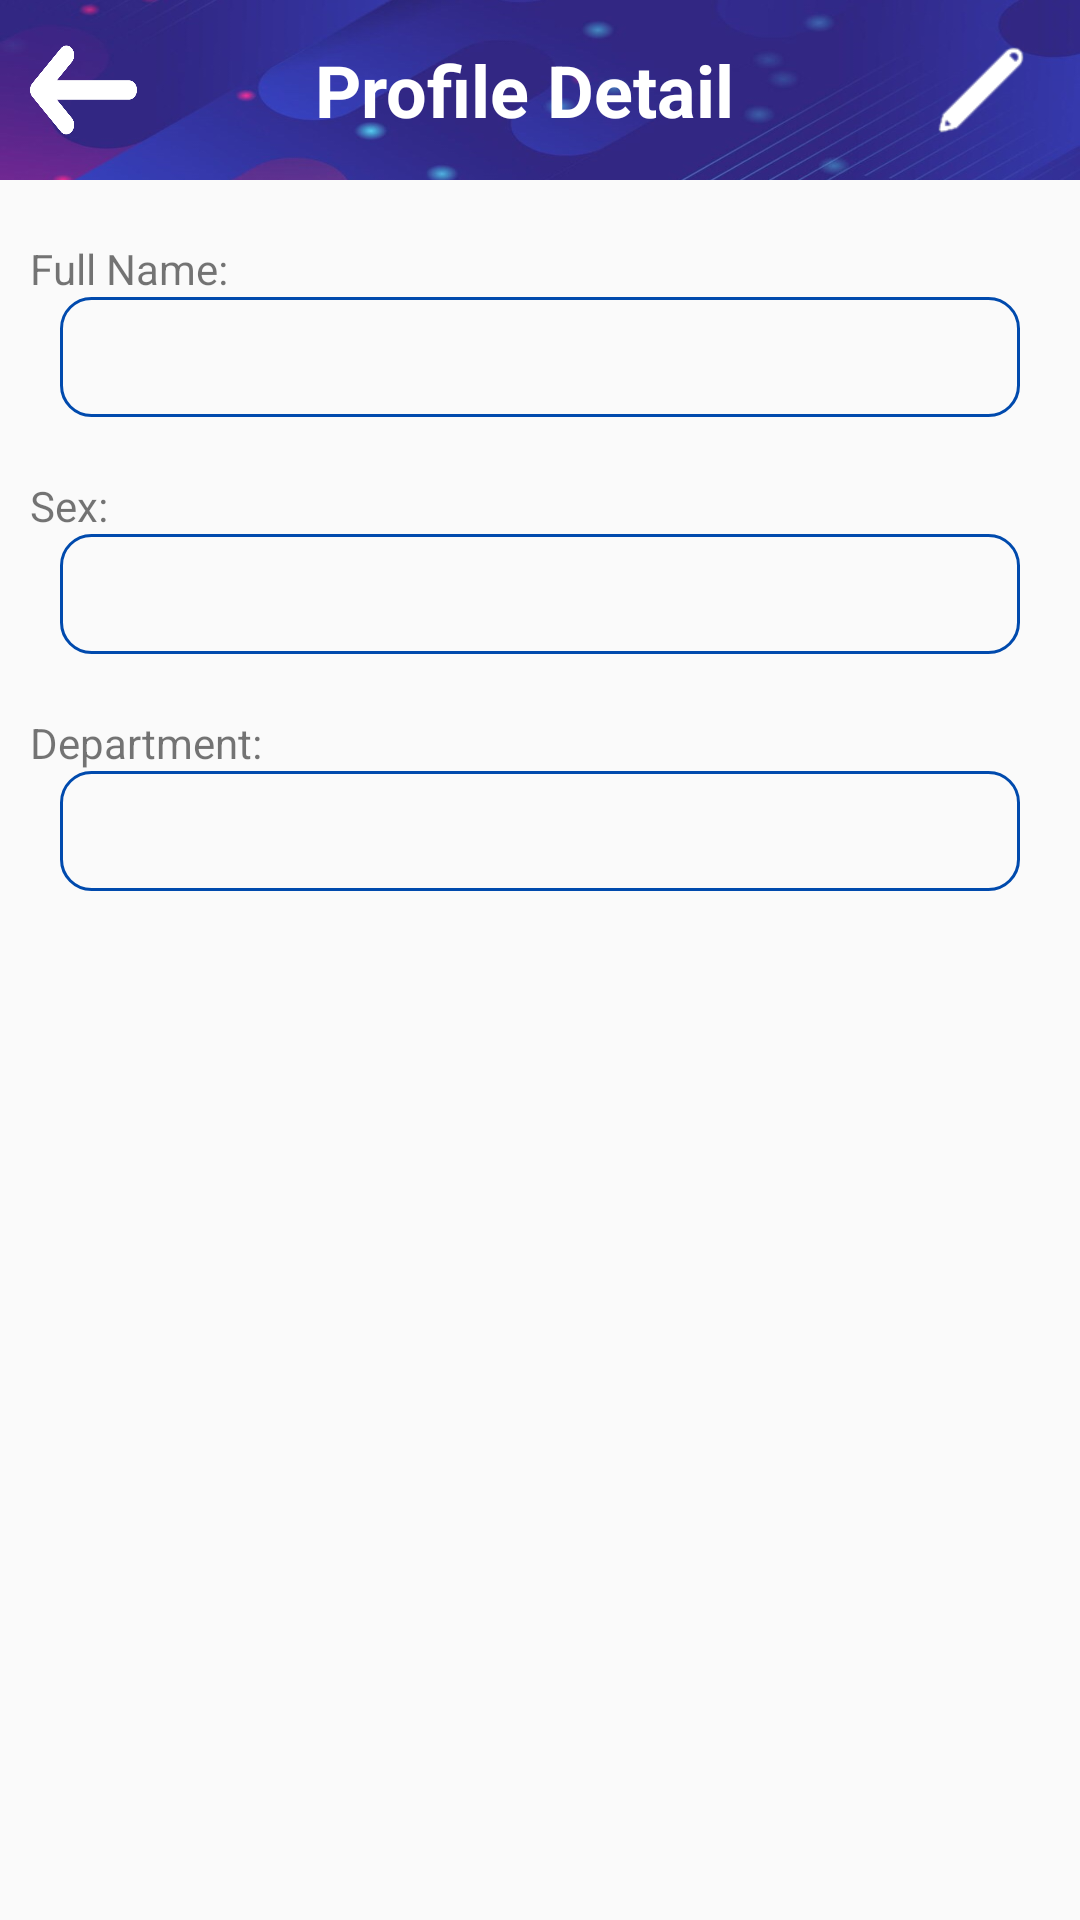

Where icons sit on this 1080*1920 app screen, as (x1, y1, x2, y2):
back: (30, 45, 137, 135)
edit: (912, 30, 1050, 150)
